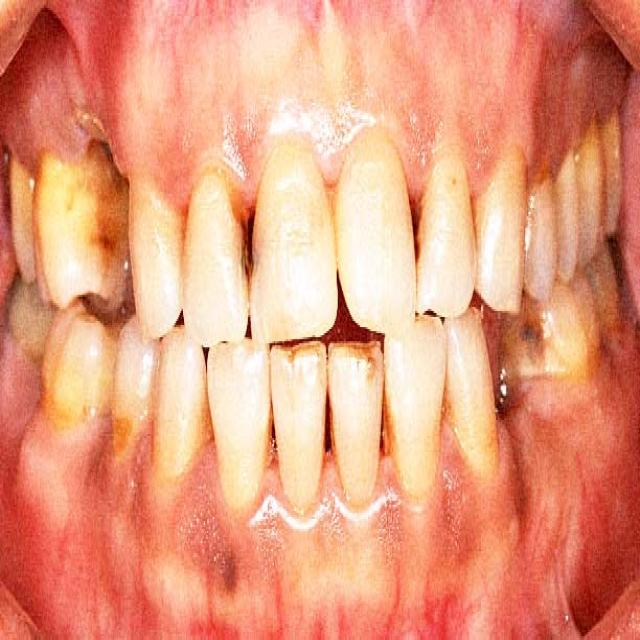caries: (229, 195, 268, 294), (512, 305, 556, 367), (82, 212, 121, 274), (107, 401, 137, 474)
